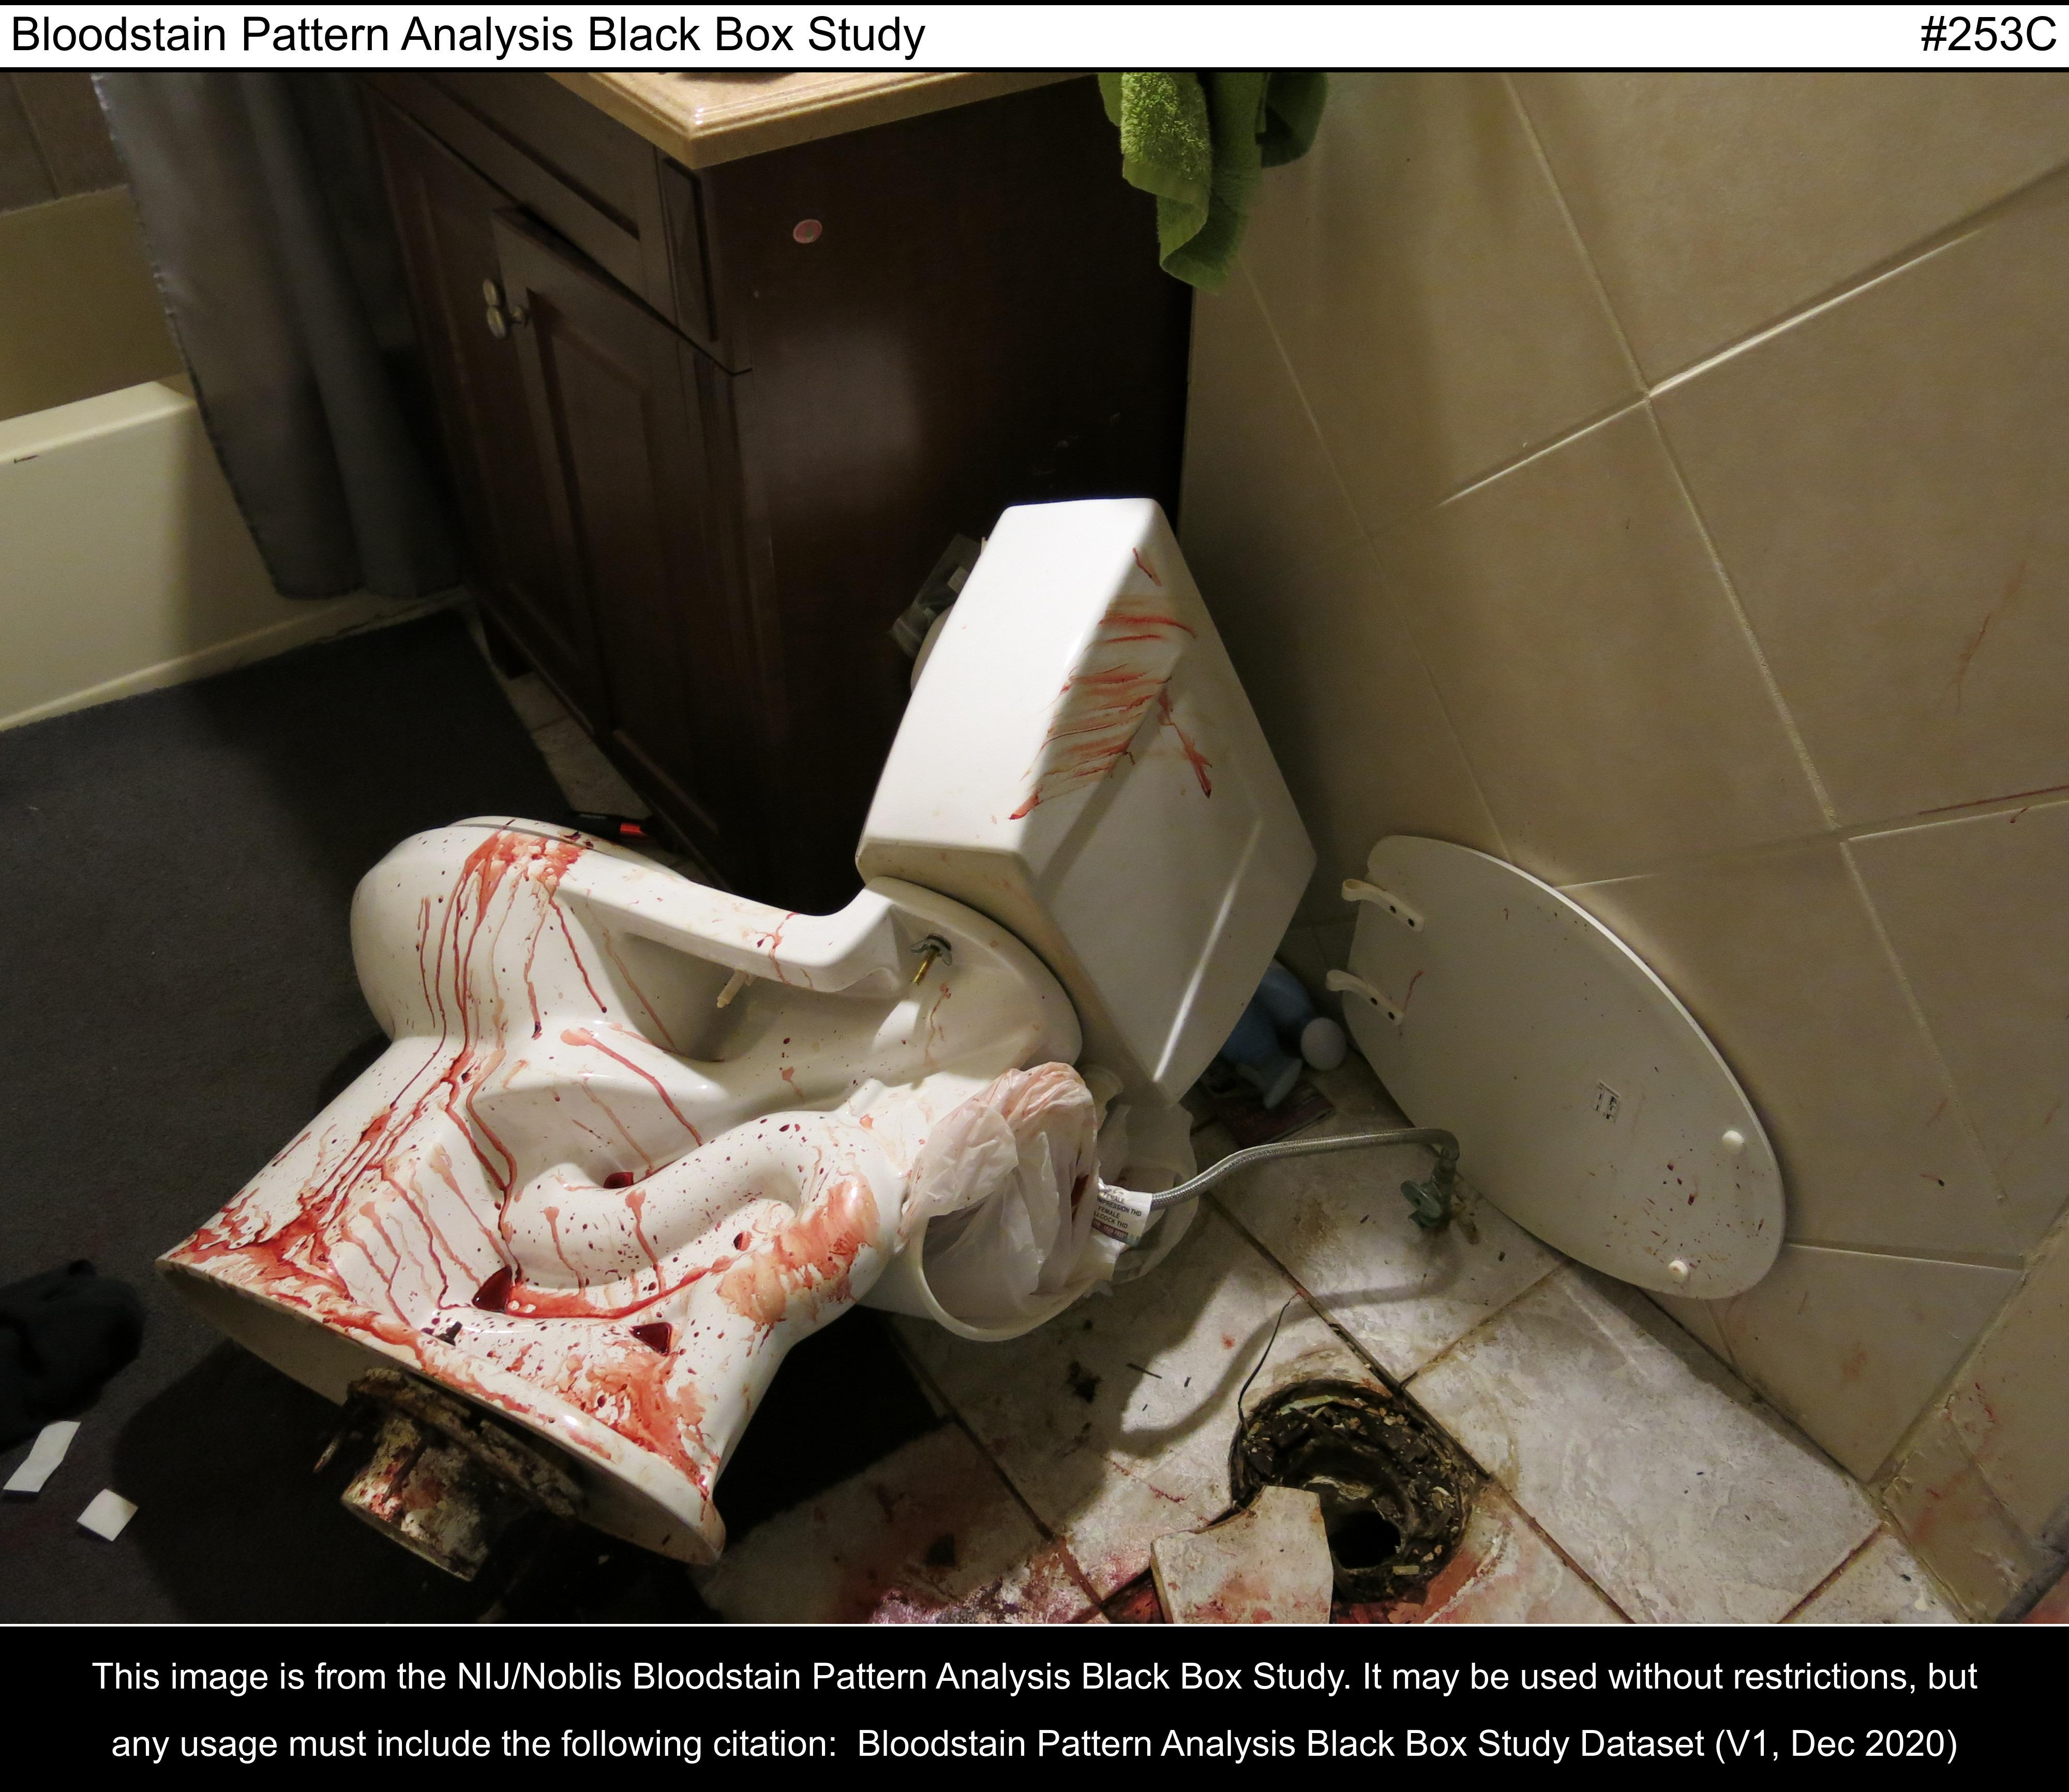Passive: (130, 818, 932, 1532), (999, 536, 1263, 856)
